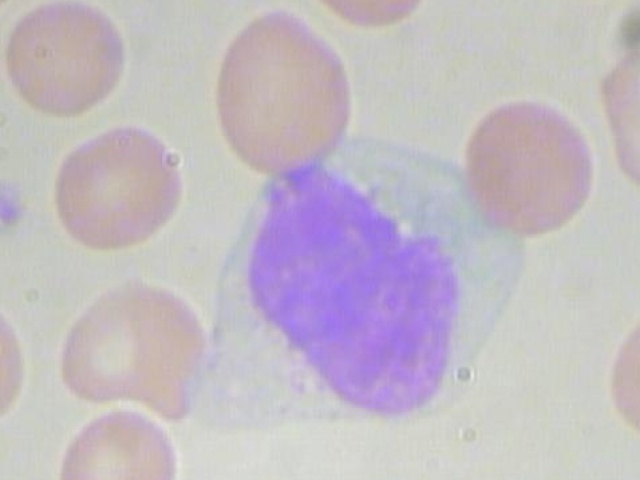RBC: (203, 0, 362, 183), (446, 92, 606, 237), (53, 279, 213, 423), (43, 118, 191, 259), (0, 0, 130, 131), (41, 397, 192, 480), (592, 27, 640, 198), (0, 273, 45, 427), (601, 288, 640, 437), (0, 0, 63, 66)
WBC: (182, 134, 525, 456)
